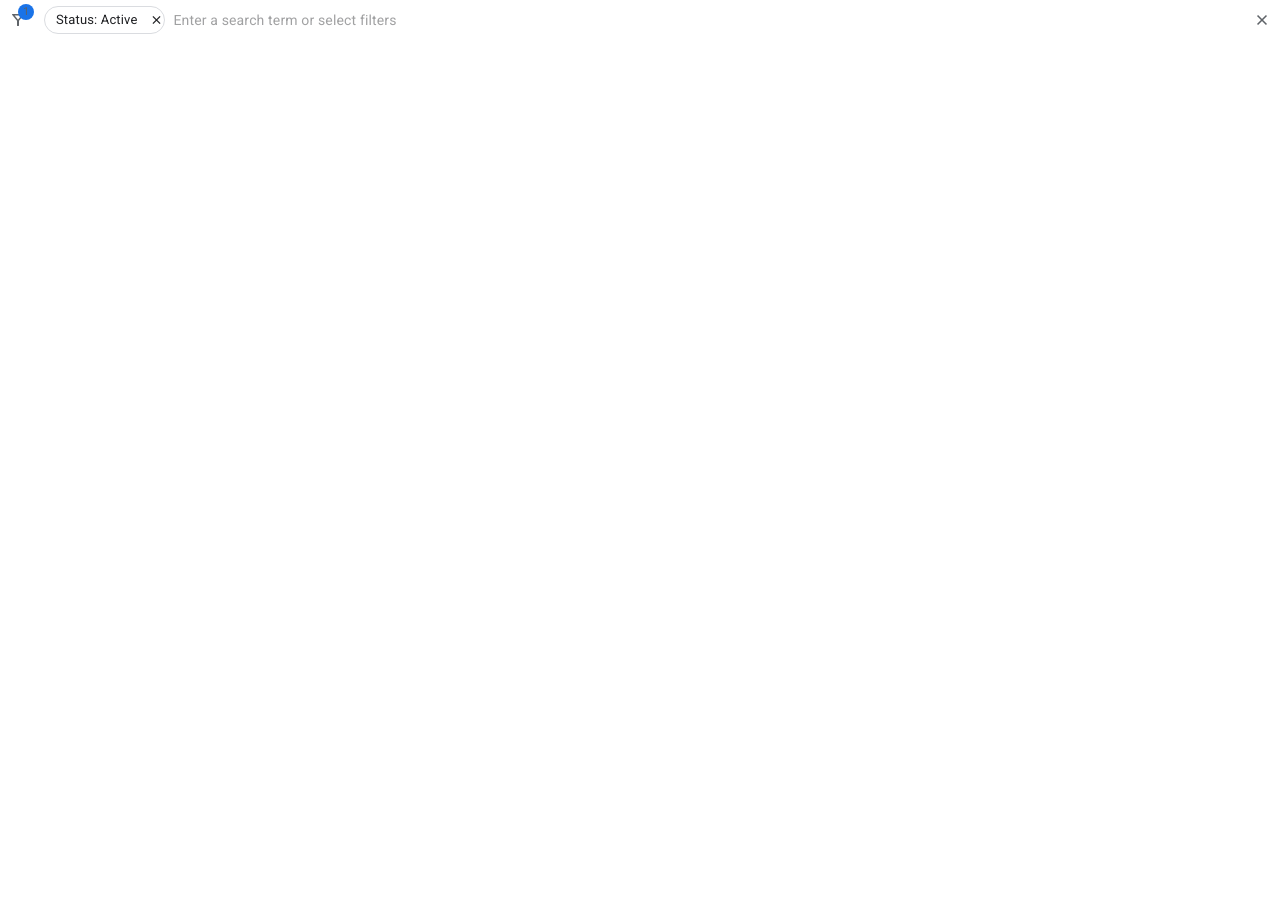
DvFilterBar › chip editor: title, "Matches:", options and Apply, then updates the chip text
Click the button "Status: Active" at (105, 20), box [44, 6, 166, 34]
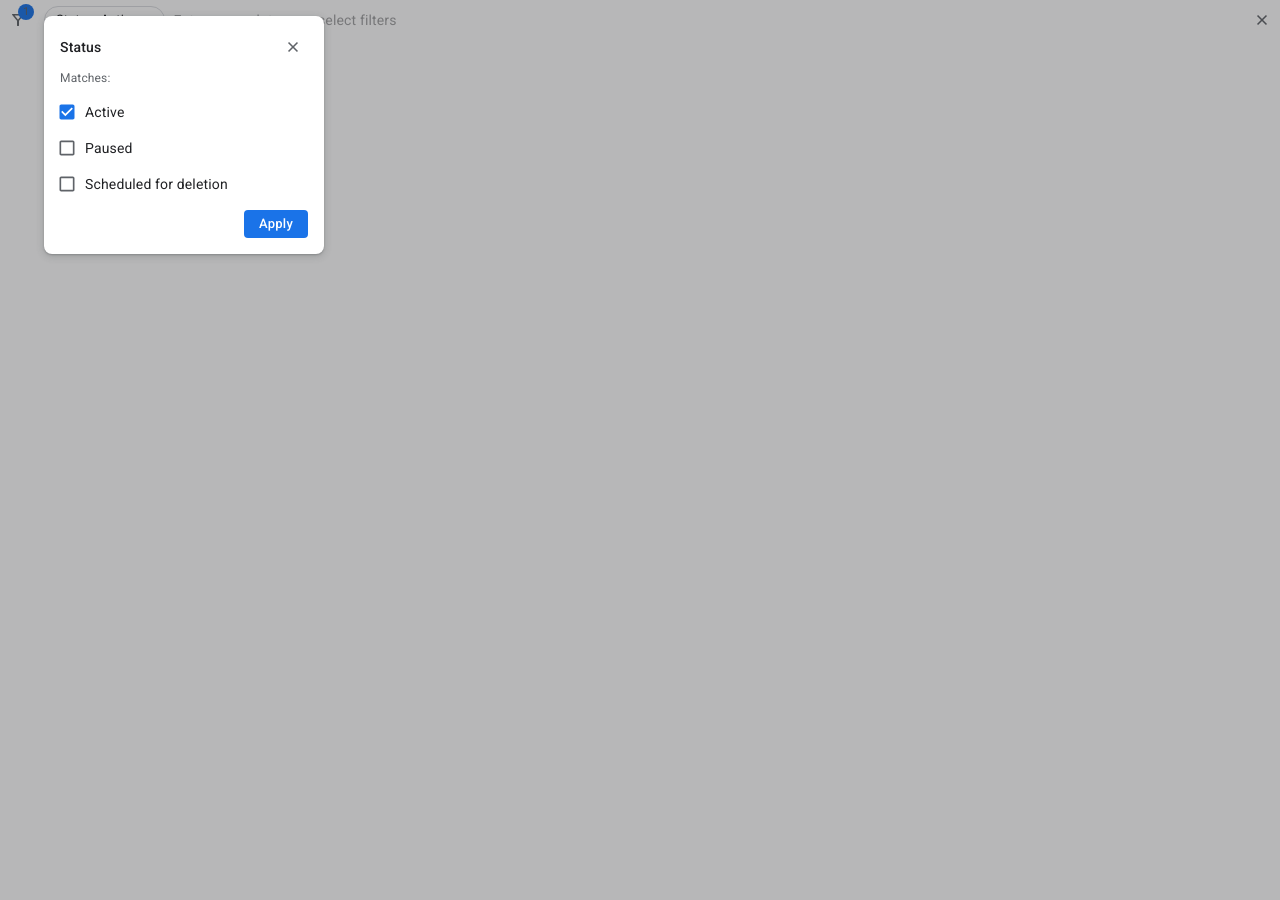
Expected: the heading "Status" is shown, [60, 37, 101, 57]
Expected: the text "Matches:" is shown, [60, 71, 110, 85]
Expected: the checkbox labelled "Active" is checked, [57, 102, 124, 122]
Click the checkbox labelled "Paused" at (95, 148), box [57, 138, 132, 158]
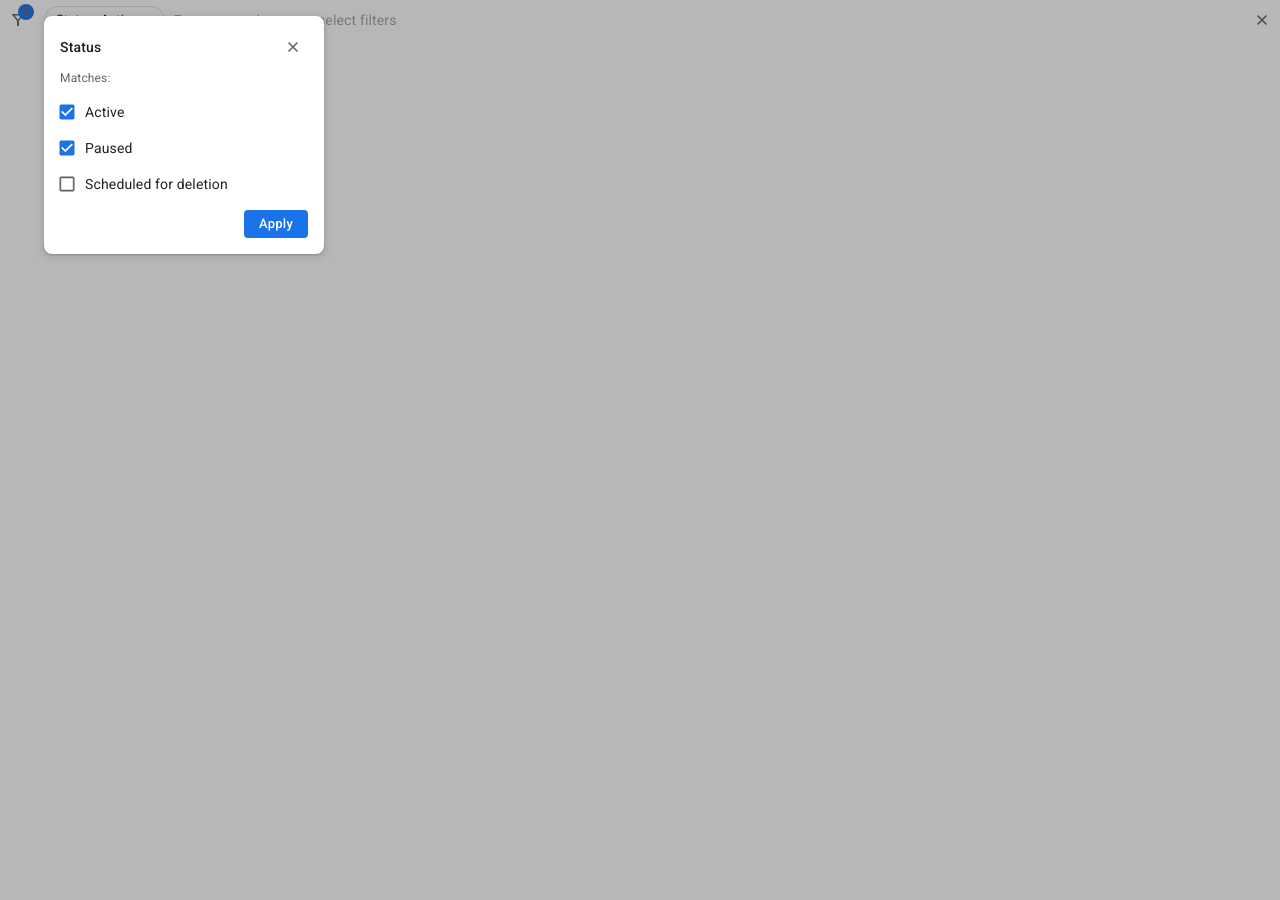
Click the button "Apply" at (276, 224), box [244, 210, 308, 238]
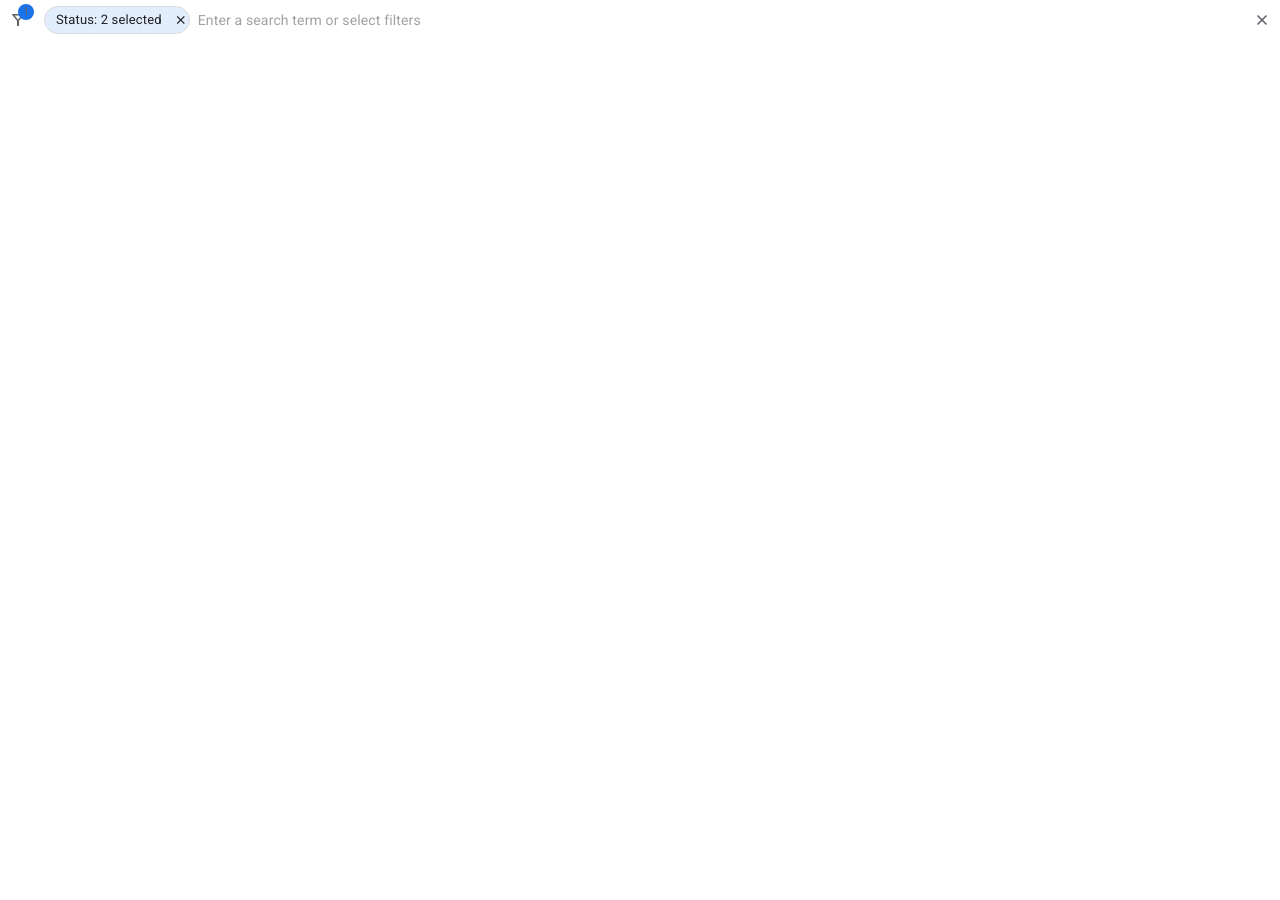
Expected: the button "Status: 2 selected" is shown, [44, 6, 190, 34]
